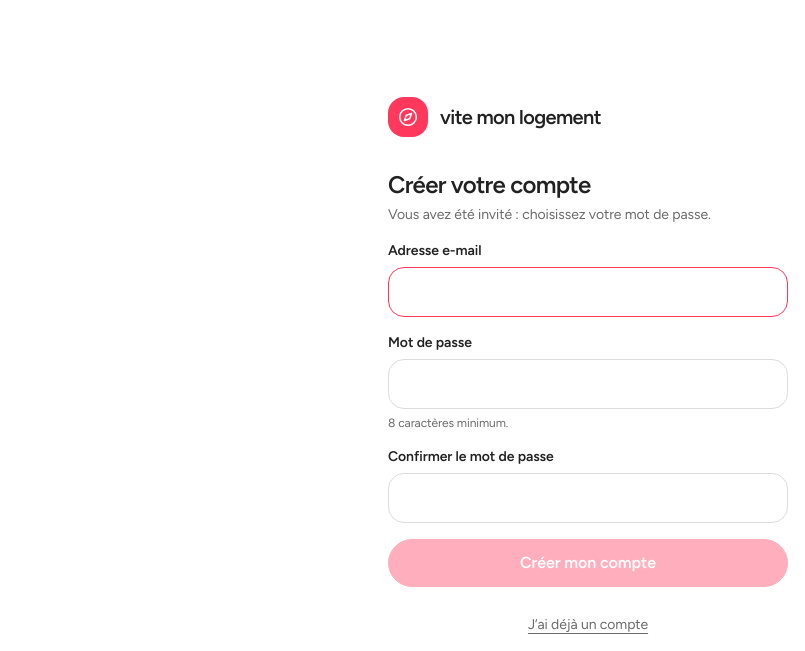
Test: AuthGate : inscription par lien d’invitation › crée le compte avec le code, ouvre l’application et retire le code de l’URL
Check: the heading "Créer votre compte" is shown, box x1=388 y1=170 x2=590 y2=199
Type "nouveau@example.com" into the field labelled "Adresse e-mail" at (588, 292), box x1=388 y1=267 x2=788 y2=317
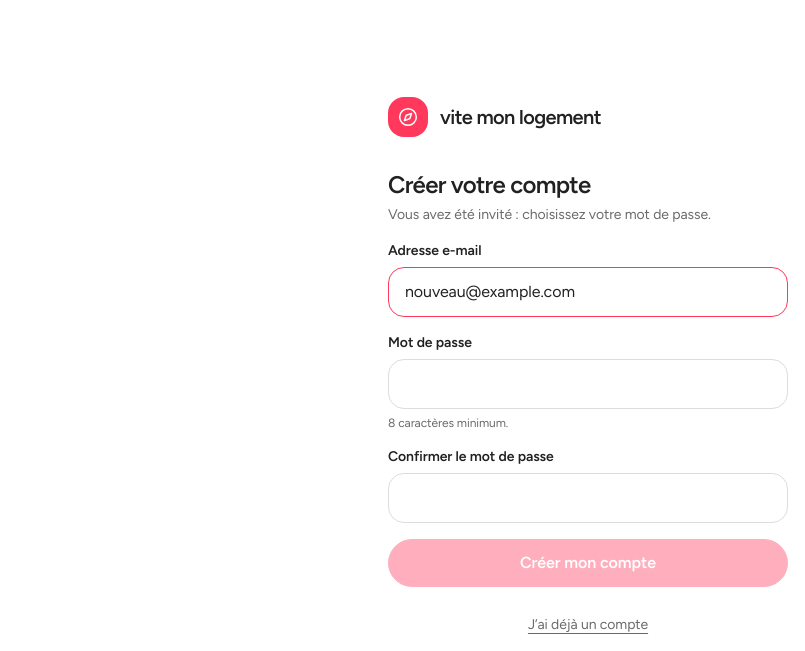
Type "motdepasse-1" into the password field labelled "Mot de passe" at (588, 384), box x1=388 y1=359 x2=788 y2=409
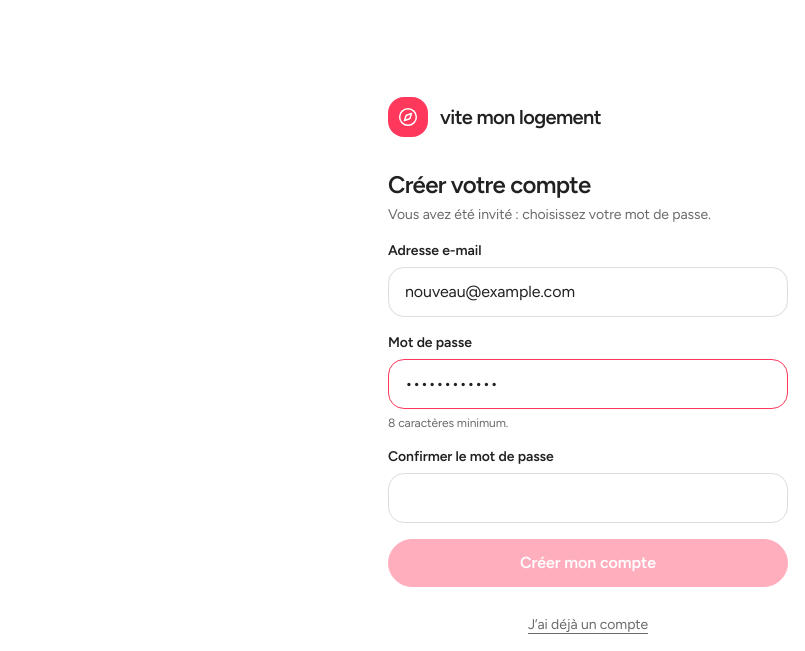
Type "motdepasse-1" into the password field labelled "Confirmer le mot de passe" at (588, 498), box x1=388 y1=473 x2=788 y2=523
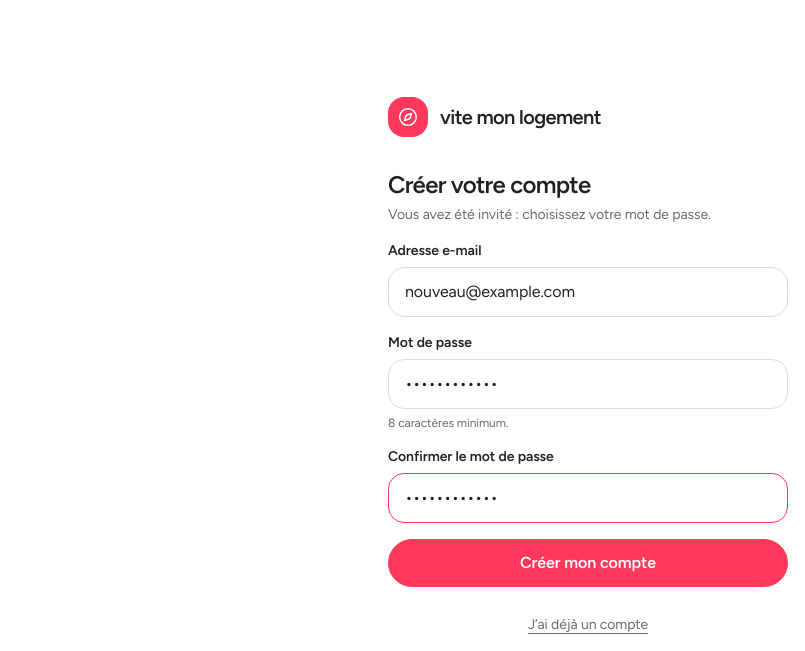
Click the button "Créer mon compte" at (588, 563), box x1=388 y1=539 x2=788 y2=587
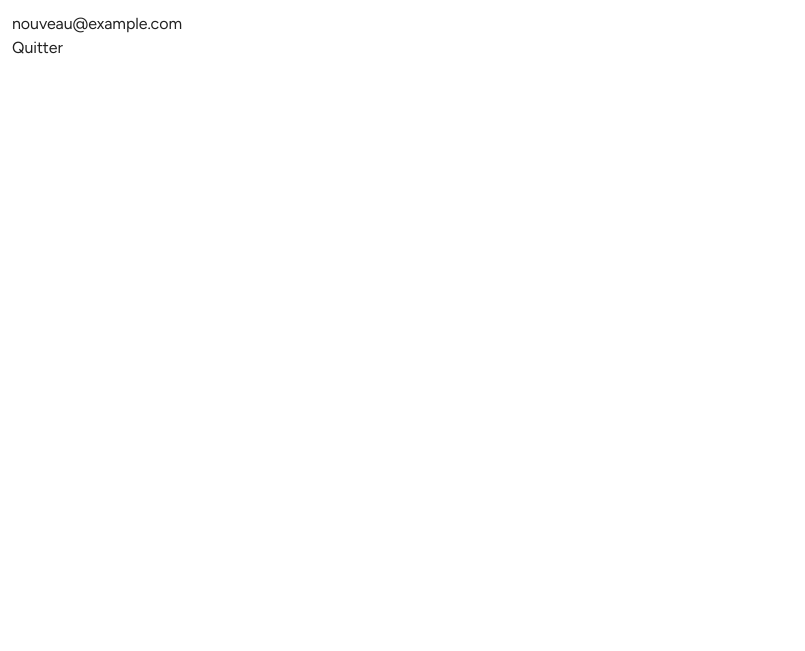
Check: the text with test id "who" reads "nouveau@example.com", box x1=12 y1=14 x2=182 y2=33
